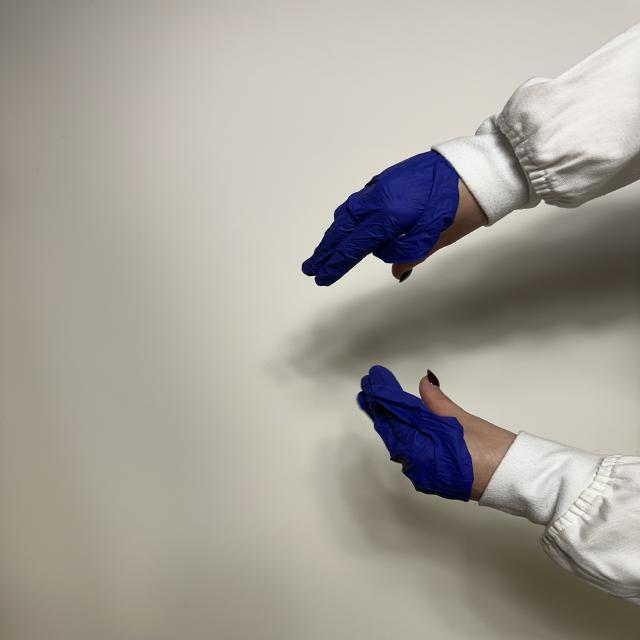glove_partial: (302, 151, 488, 286), (358, 367, 516, 500)
